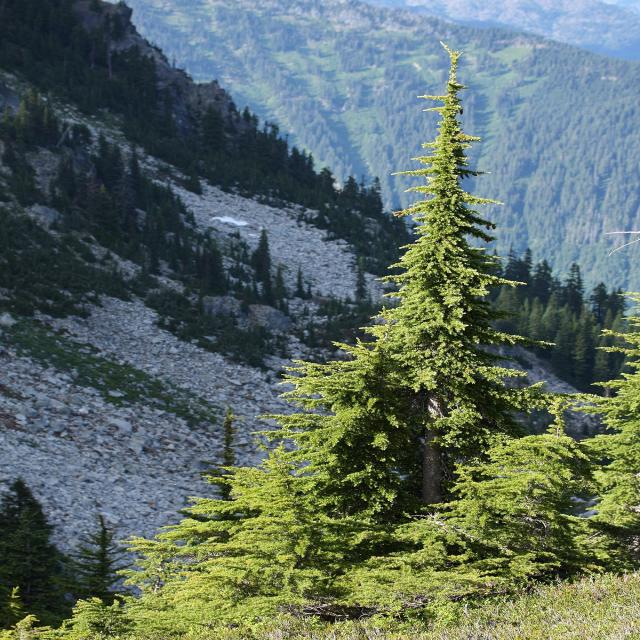Tsuga mertensiana: (114, 38, 596, 615)
